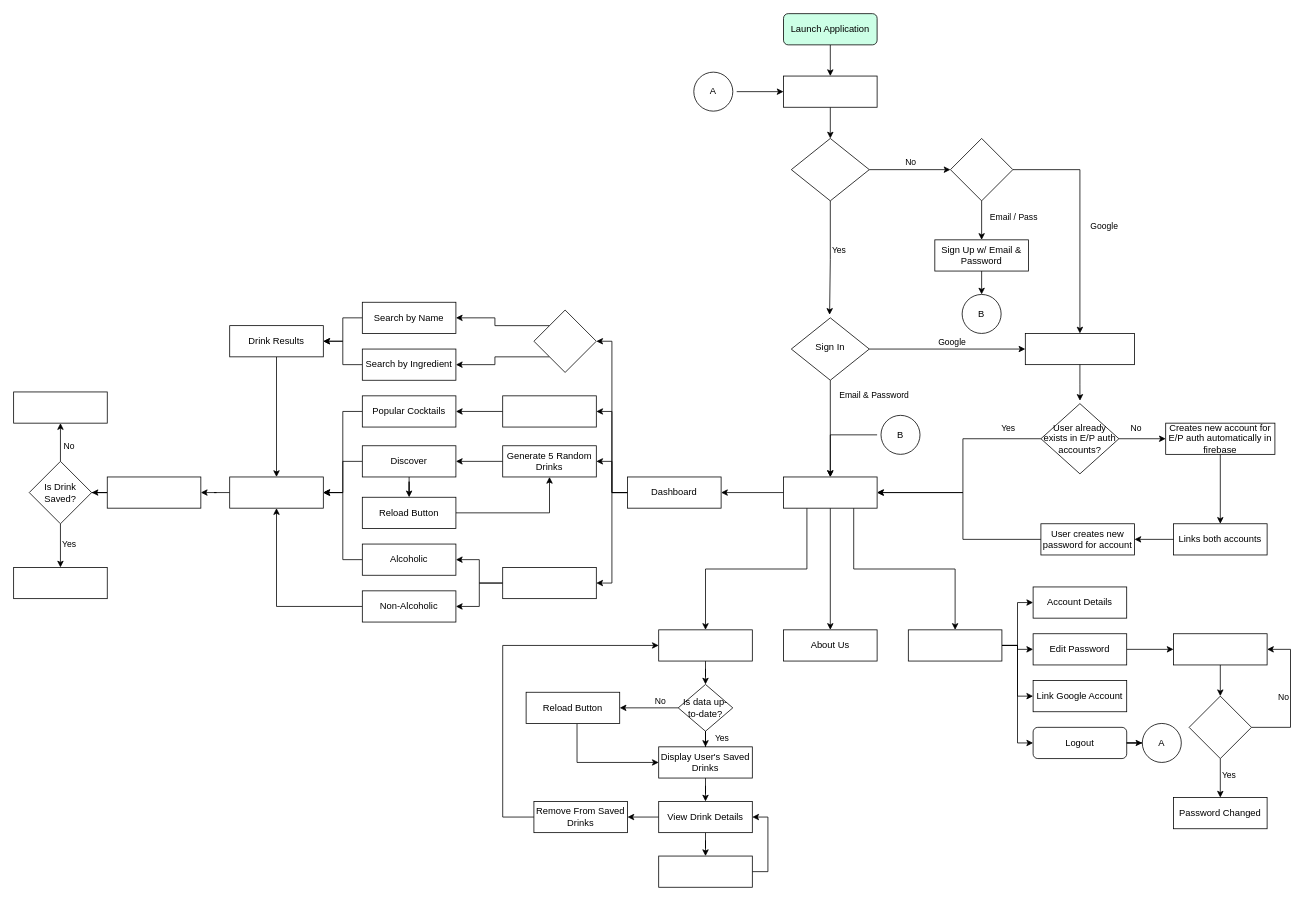
Some shapes in this 1310 by 901 pixel diagram are drawn without their labels. Here are the shapes that lost their labels. From the top down, the centre of each, then its label:
the point at 830,91: Login Screen
the point at 830,169: Has Account?
the point at 981,169: Sign up
the point at 564,340: Search Cocktail
the point at 1080,349: Sign in w/ Google
the point at 60,407: Option to Save Drink
the point at 549,411: Call API created by the devs
the point at 153,492: Display Drink Details
the point at 276,492: View Drink
the point at 830,492: Home
the point at 60,583: Option to Remove from Saved Drinks
the point at 549,583: Calls Open-Source API
the point at 705,645: Saved Drinks
the point at 955,645: Settings
the point at 1220,649: Enter Old & New Pass
the point at 1220,727: Is Correct?
the point at 705,871: Edit Drink Details
